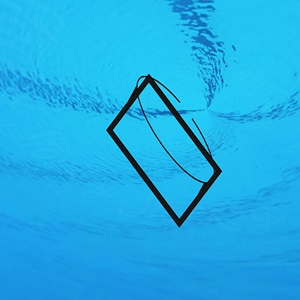circle: (102, 71, 234, 229)
